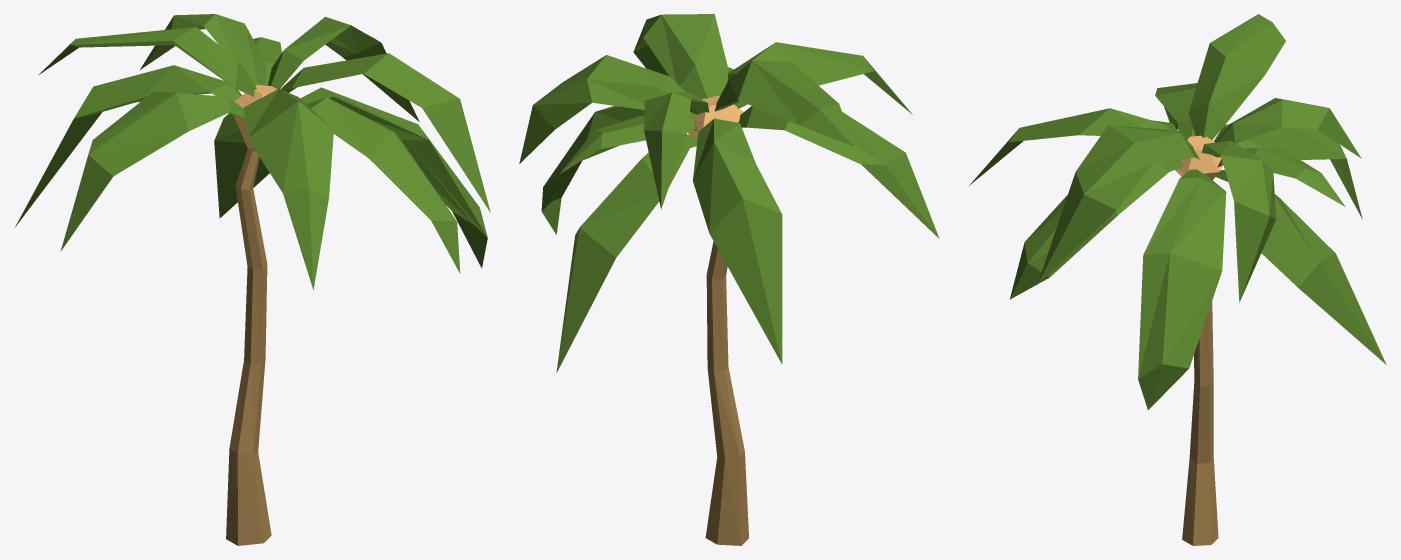
The model's file is palm_tree2.obj.
3 views of the same model, side by side, from view 1: azimuth 30°, elevation 25°; view 2: azimuth 150°, elevation 25°; view 3: azimuth 270°, elevation 25° (orthographic). The views are drawn at different scales.
Size of the model in its own units: 11.7 by 13.81 by 11.29.
